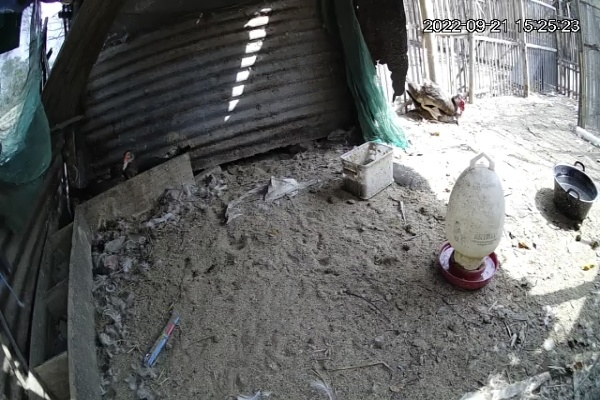Kawin: (398, 71, 474, 132)
